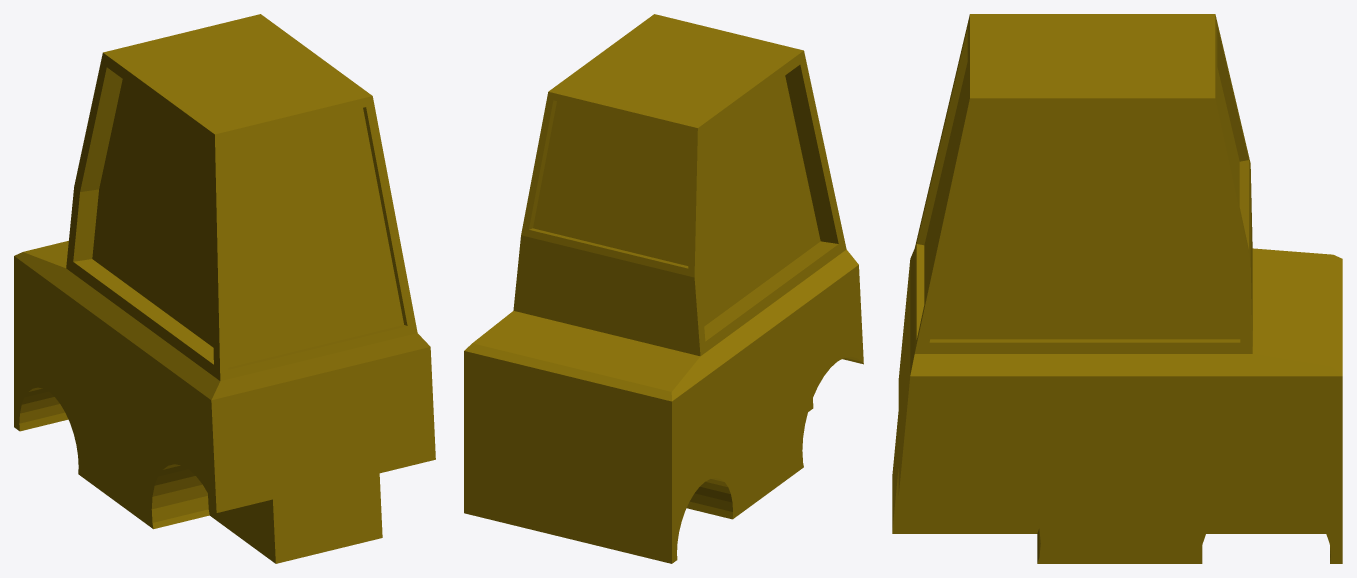
The model's file is ForkliftBody.obj.
The picture shows the model from 3 angles, left to right: view 1: azimuth 30°, elevation 25°; view 2: azimuth 150°, elevation 25°; view 3: azimuth 270°, elevation 25°; orthographic projection. The views are drawn at different scales.
Parts seen in each view (by area): view 1: Body_Cube.002; view 2: Body_Cube.002; view 3: Body_Cube.002.
Part boxes in pixels (x1=…): Body_Cube.002: x1=14, y1=14, x2=435, y2=563; Body_Cube.002: x1=464, y1=14, x2=863, y2=563; Body_Cube.002: x1=892, y1=14, x2=1342, y2=563.
Size of the model in its own units: 2.46 by 4.4 by 4.
